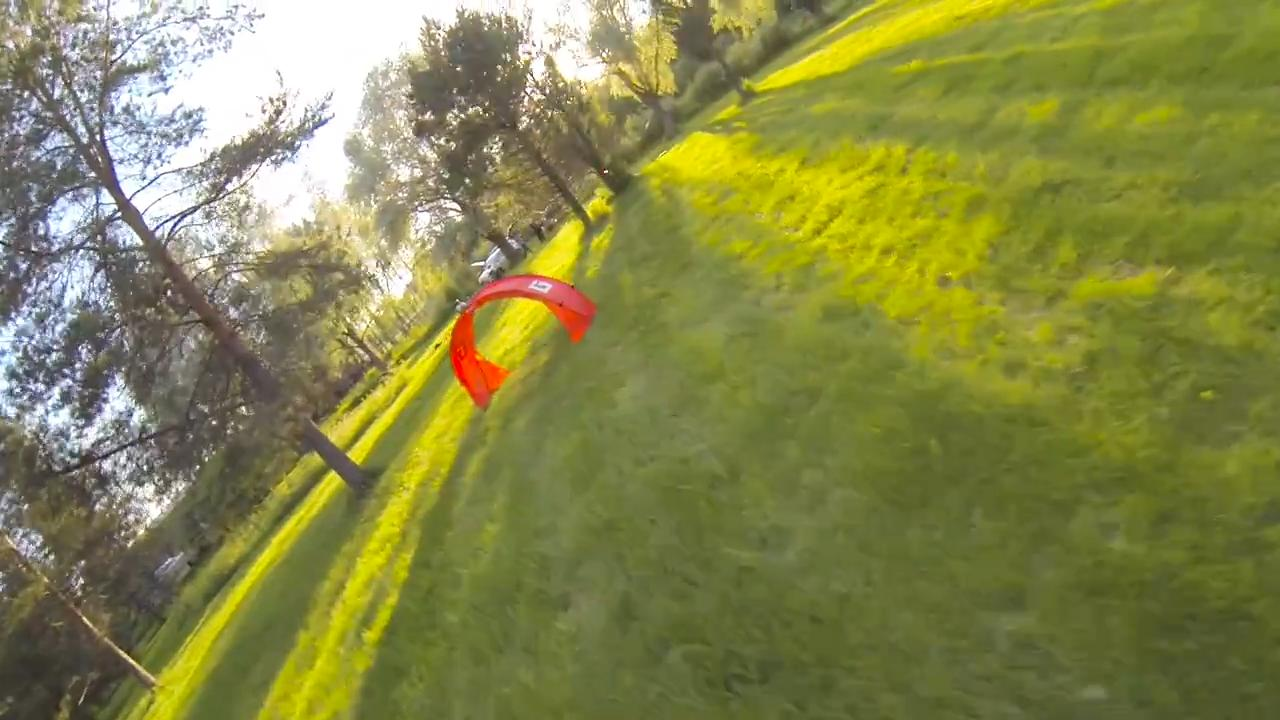gate: (447, 273, 599, 410)
